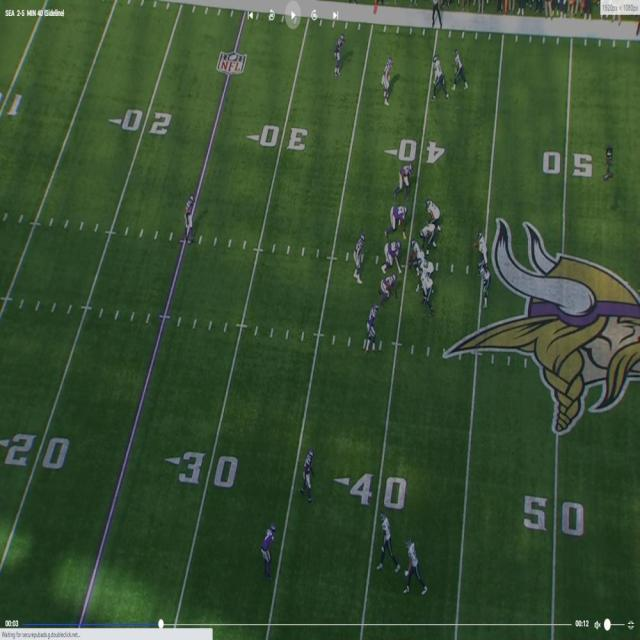center: (411, 243, 426, 270)
db: (263, 524, 279, 574), (302, 448, 315, 500), (182, 193, 195, 240), (382, 58, 392, 106), (333, 34, 344, 76)
lb: (352, 231, 364, 281), (366, 304, 376, 352)
qb: (476, 233, 486, 270)
skill: (406, 536, 422, 590), (379, 510, 395, 562), (432, 58, 447, 102), (454, 48, 466, 86), (480, 262, 490, 297)
